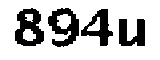4: (80, 8, 114, 50)
8: (12, 5, 44, 50)
9: (44, 7, 82, 52)
u: (115, 17, 149, 50)
